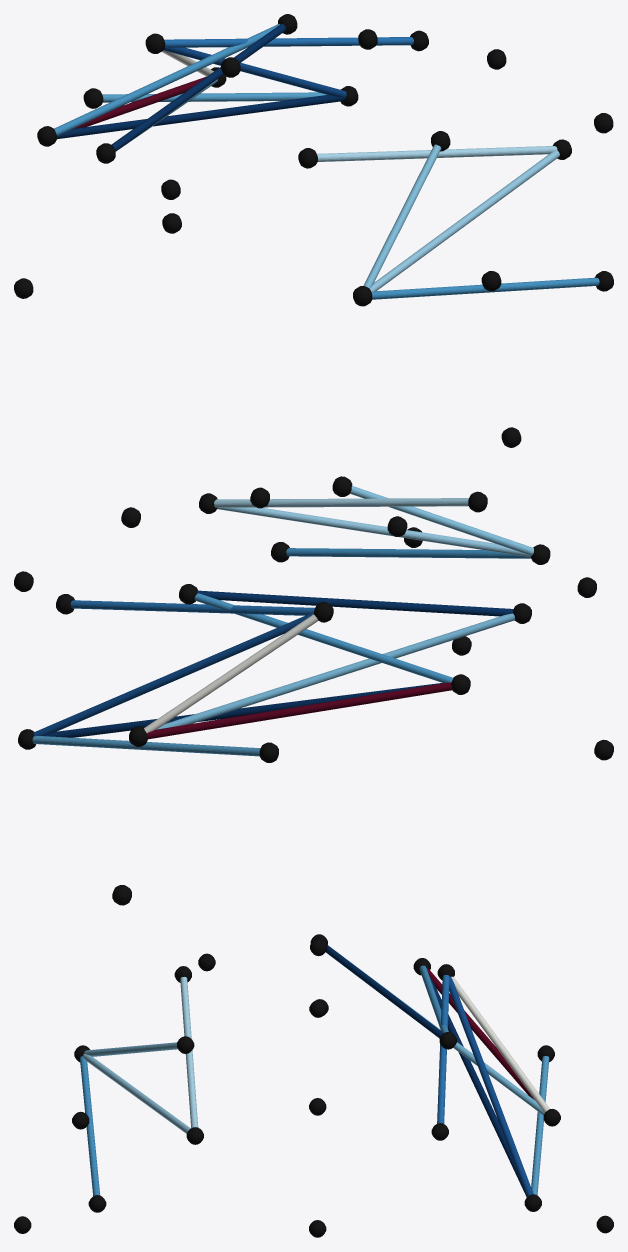
3 renders of one model, top to bottom at view 1: azimuth 30°, elevation 25°; view 2: azimuth 150°, elevation 25°; view 3: azimuth 270°, elevation 25°, orthographic. The views are drawn at different scales.
Visible parts, largest first — view 1: Renderer Node; view 2: Renderer Node; view 3: Renderer Node.
Boxes of the visible parts, box(x1,y1,x2,y2) form: Renderer Node: box(14, 14, 613, 447); Renderer Node: box(14, 476, 613, 905); Renderer Node: box(14, 934, 613, 1237).
Bounding box in the file's own units: 0.1662 × 0.0771 × 0.1686.
Materials: 14 (13 with a texture image).
